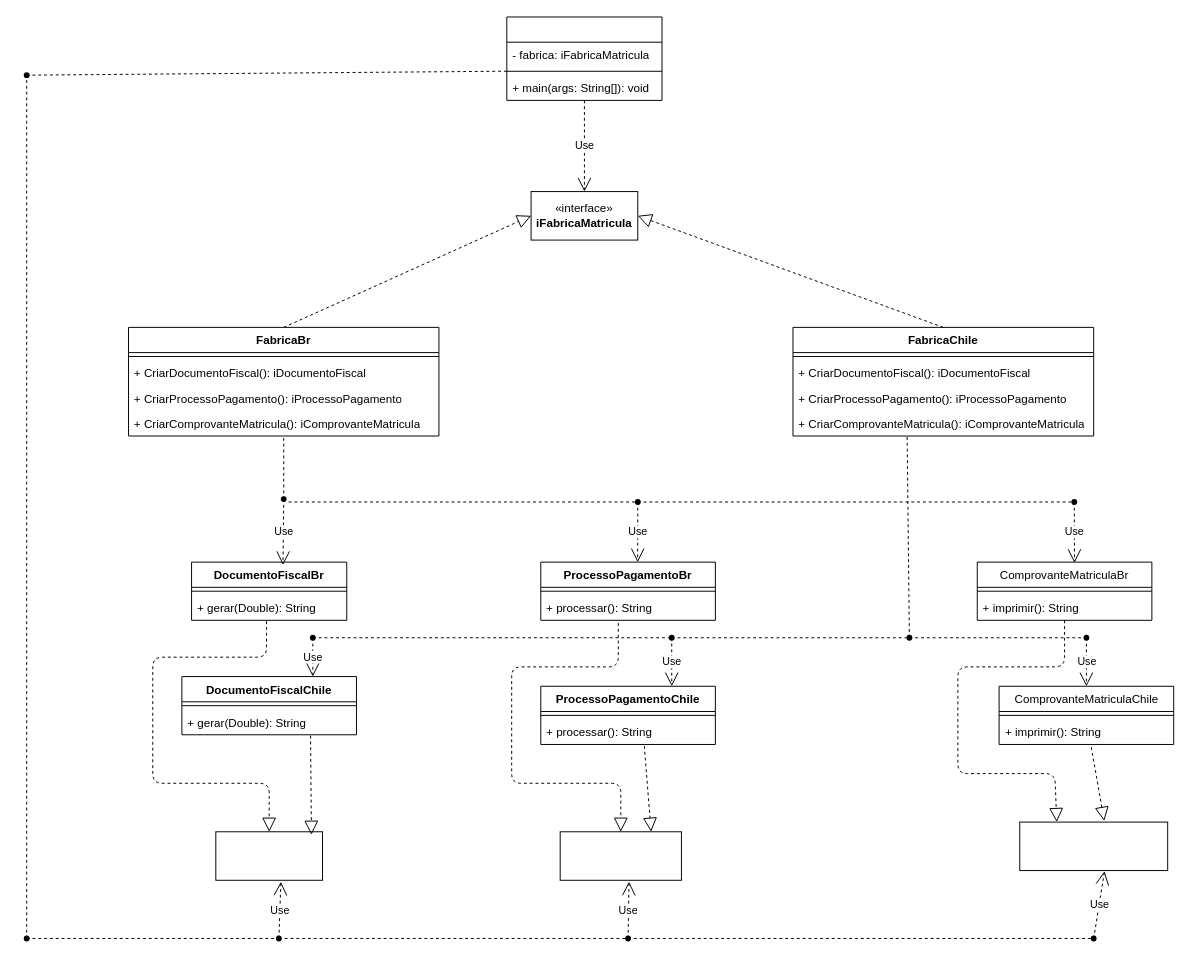
Some shapes in this 1191 by 969 pixel diagram are drawn without their labels. The shapes that lost their labels are listed below. From the top down, each one's box as (x1, y1, x2, y2) in pixels, then its label:
(506, 16, 662, 100): Cliente
(215, 831, 323, 880): «interface» iDocumentoFiscal
(559, 831, 681, 880): «interface» iProcessoPagamento
(1019, 821, 1168, 871): «interface» iComprovanteMatricula
